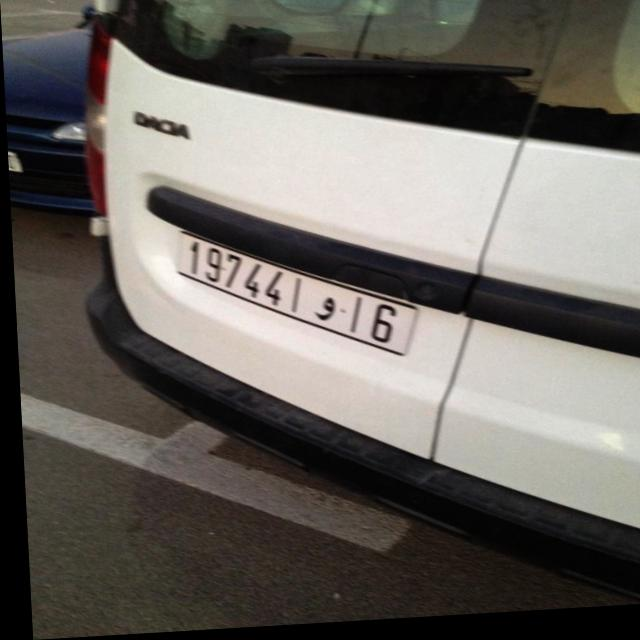License-Plate: (175, 235, 412, 359)
